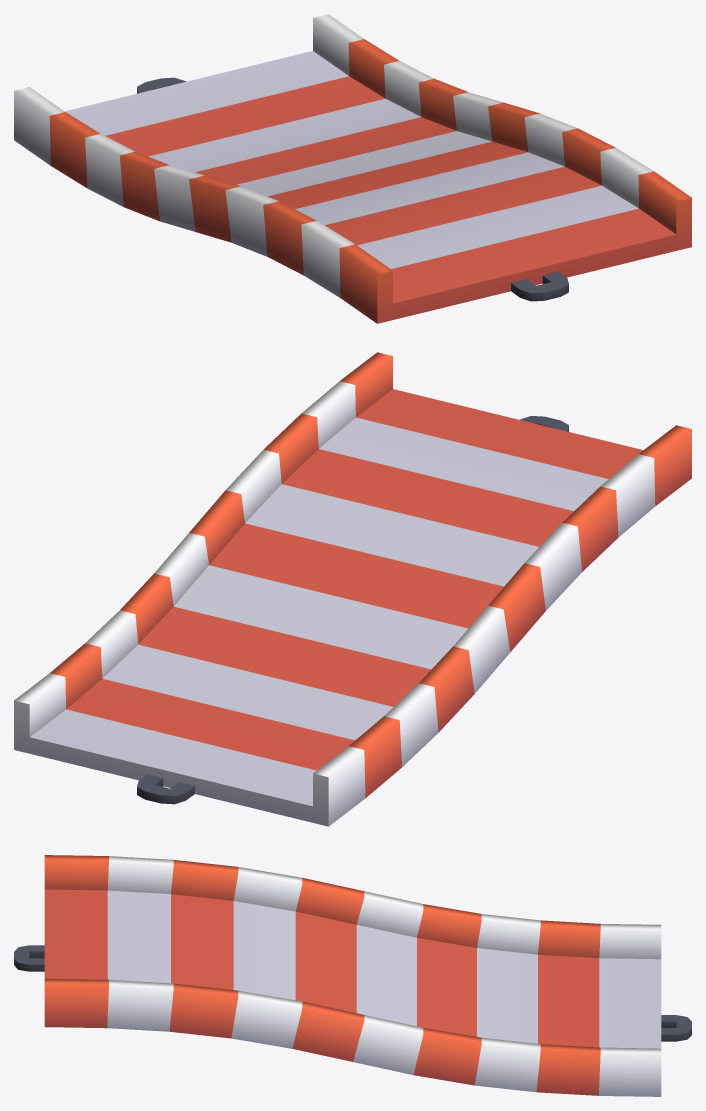
File: kenney-toy-car-track-striped-wide-straight-hill-complete-half.glb
3 views of the same model, one above another, from view 1: azimuth 30°, elevation 25°; view 2: azimuth 150°, elevation 25°; view 3: azimuth 270°, elevation 25° (orthographic). The views are drawn at different scales.
Parts seen in each view (by area): view 1: track-striped-wide-straight-hill-complete-half; view 2: track-striped-wide-straight-hill-complete-half; view 3: track-striped-wide-straight-hill-complete-half.
Part boxes in pixels (x1,y1,x2,y2): track-striped-wide-straight-hill-complete-half: (14, 14, 691, 323); track-striped-wide-straight-hill-complete-half: (14, 352, 691, 826); track-striped-wide-straight-hill-complete-half: (14, 855, 691, 1096).
Size of the model in its own units: 2 by 0.7998 by 4.4.
1 material, 1 textured.
